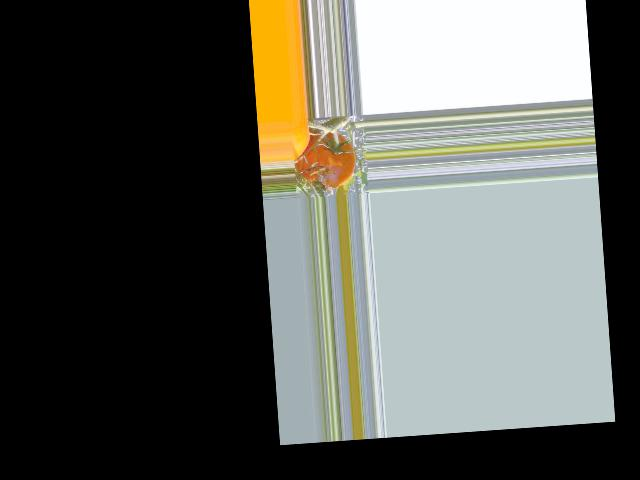tomato: (293, 130, 357, 192)
